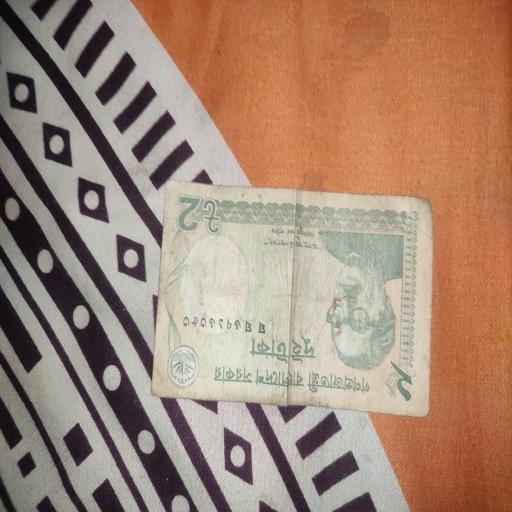2taka: (153, 180, 430, 418)
